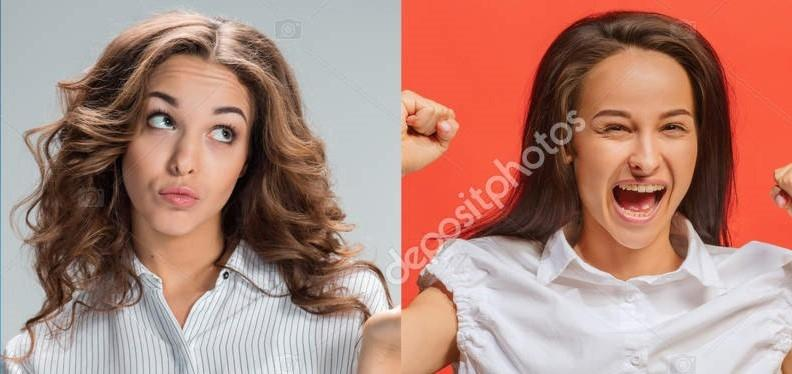feliz: (513, 0, 740, 264)
surpreso: (62, 7, 322, 252)
